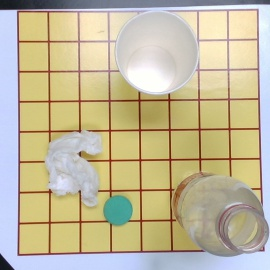cup: (116, 11, 200, 96)
green: (102, 196, 134, 226)
